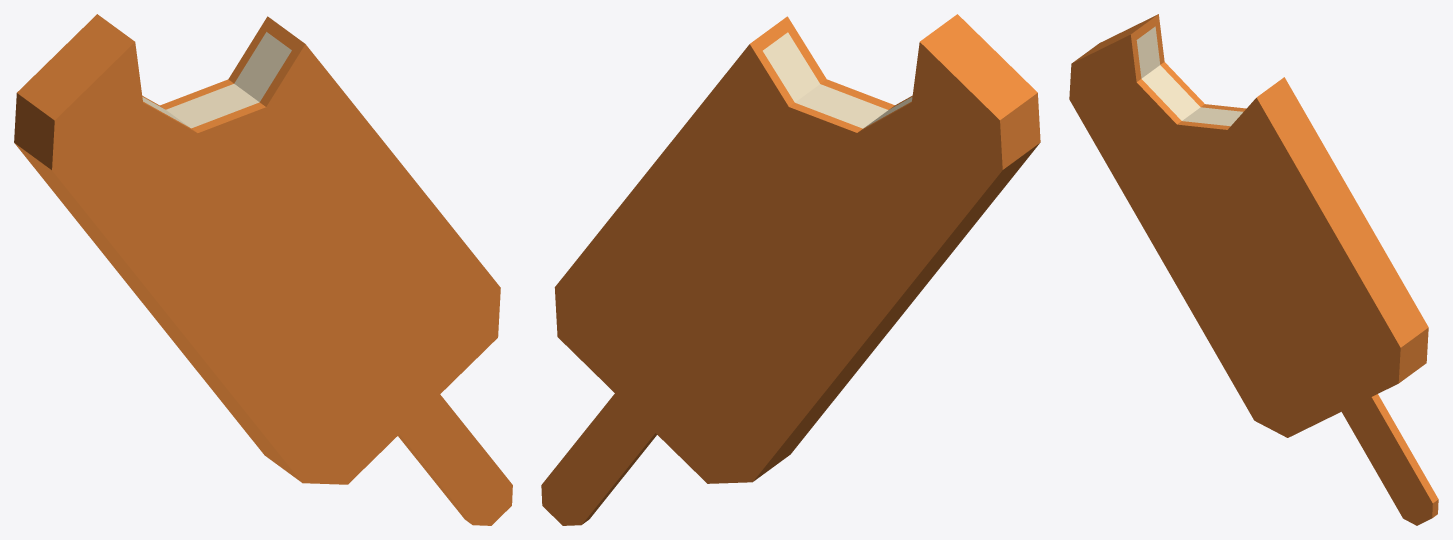
Rendered from ice_cream_eaten.fbx.
3 renders of one model, left to right at view 1: azimuth 30°, elevation 25°; view 2: azimuth 150°, elevation 25°; view 3: azimuth 330°, elevation 25°, orthographic. The views are drawn at different scales.
Visible parts, largest first — view 1: ice_cream_eaten; view 2: ice_cream_eaten; view 3: ice_cream_eaten.
Boxes of the visible parts, bbox=[...] form: ice_cream_eaten: bbox=[14, 14, 512, 525]; ice_cream_eaten: bbox=[541, 14, 1040, 525]; ice_cream_eaten: bbox=[1069, 14, 1438, 525].
Bounding box in the file's own units: 271 × 319 × 37.4.
1 material, 1 textured.
